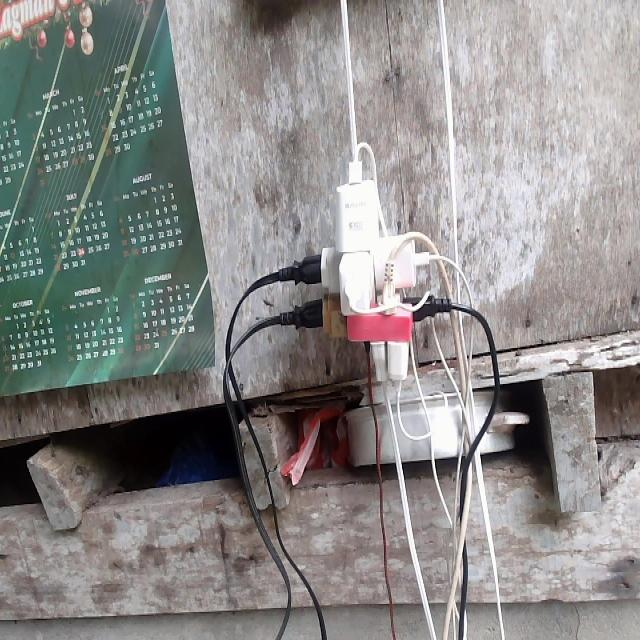-: (292, 153, 433, 383)
